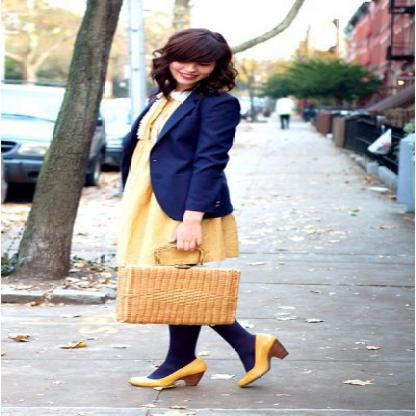bag: (118, 251, 240, 329)
dress: (121, 92, 240, 271)
jacket: (101, 91, 244, 222)
shoe: (129, 337, 286, 387)
